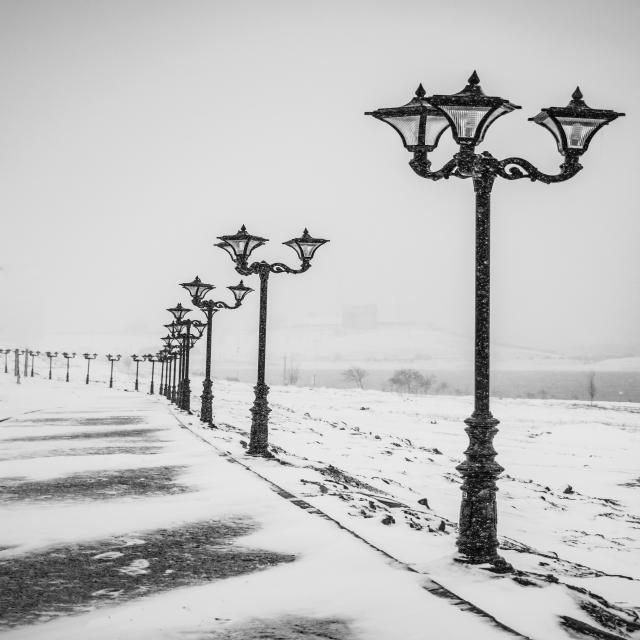Street Light: (361, 70, 625, 568), (214, 227, 328, 463), (180, 277, 254, 432), (168, 304, 194, 413), (130, 354, 148, 390), (106, 354, 122, 388), (147, 354, 160, 394), (82, 353, 98, 383), (62, 353, 77, 381), (45, 352, 58, 379), (28, 350, 40, 377), (0, 349, 12, 373)
